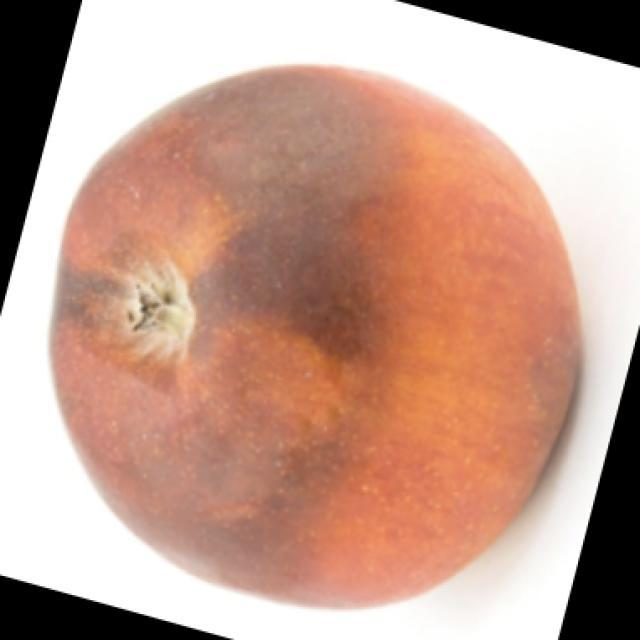Rotten: (104, 68, 584, 607)
